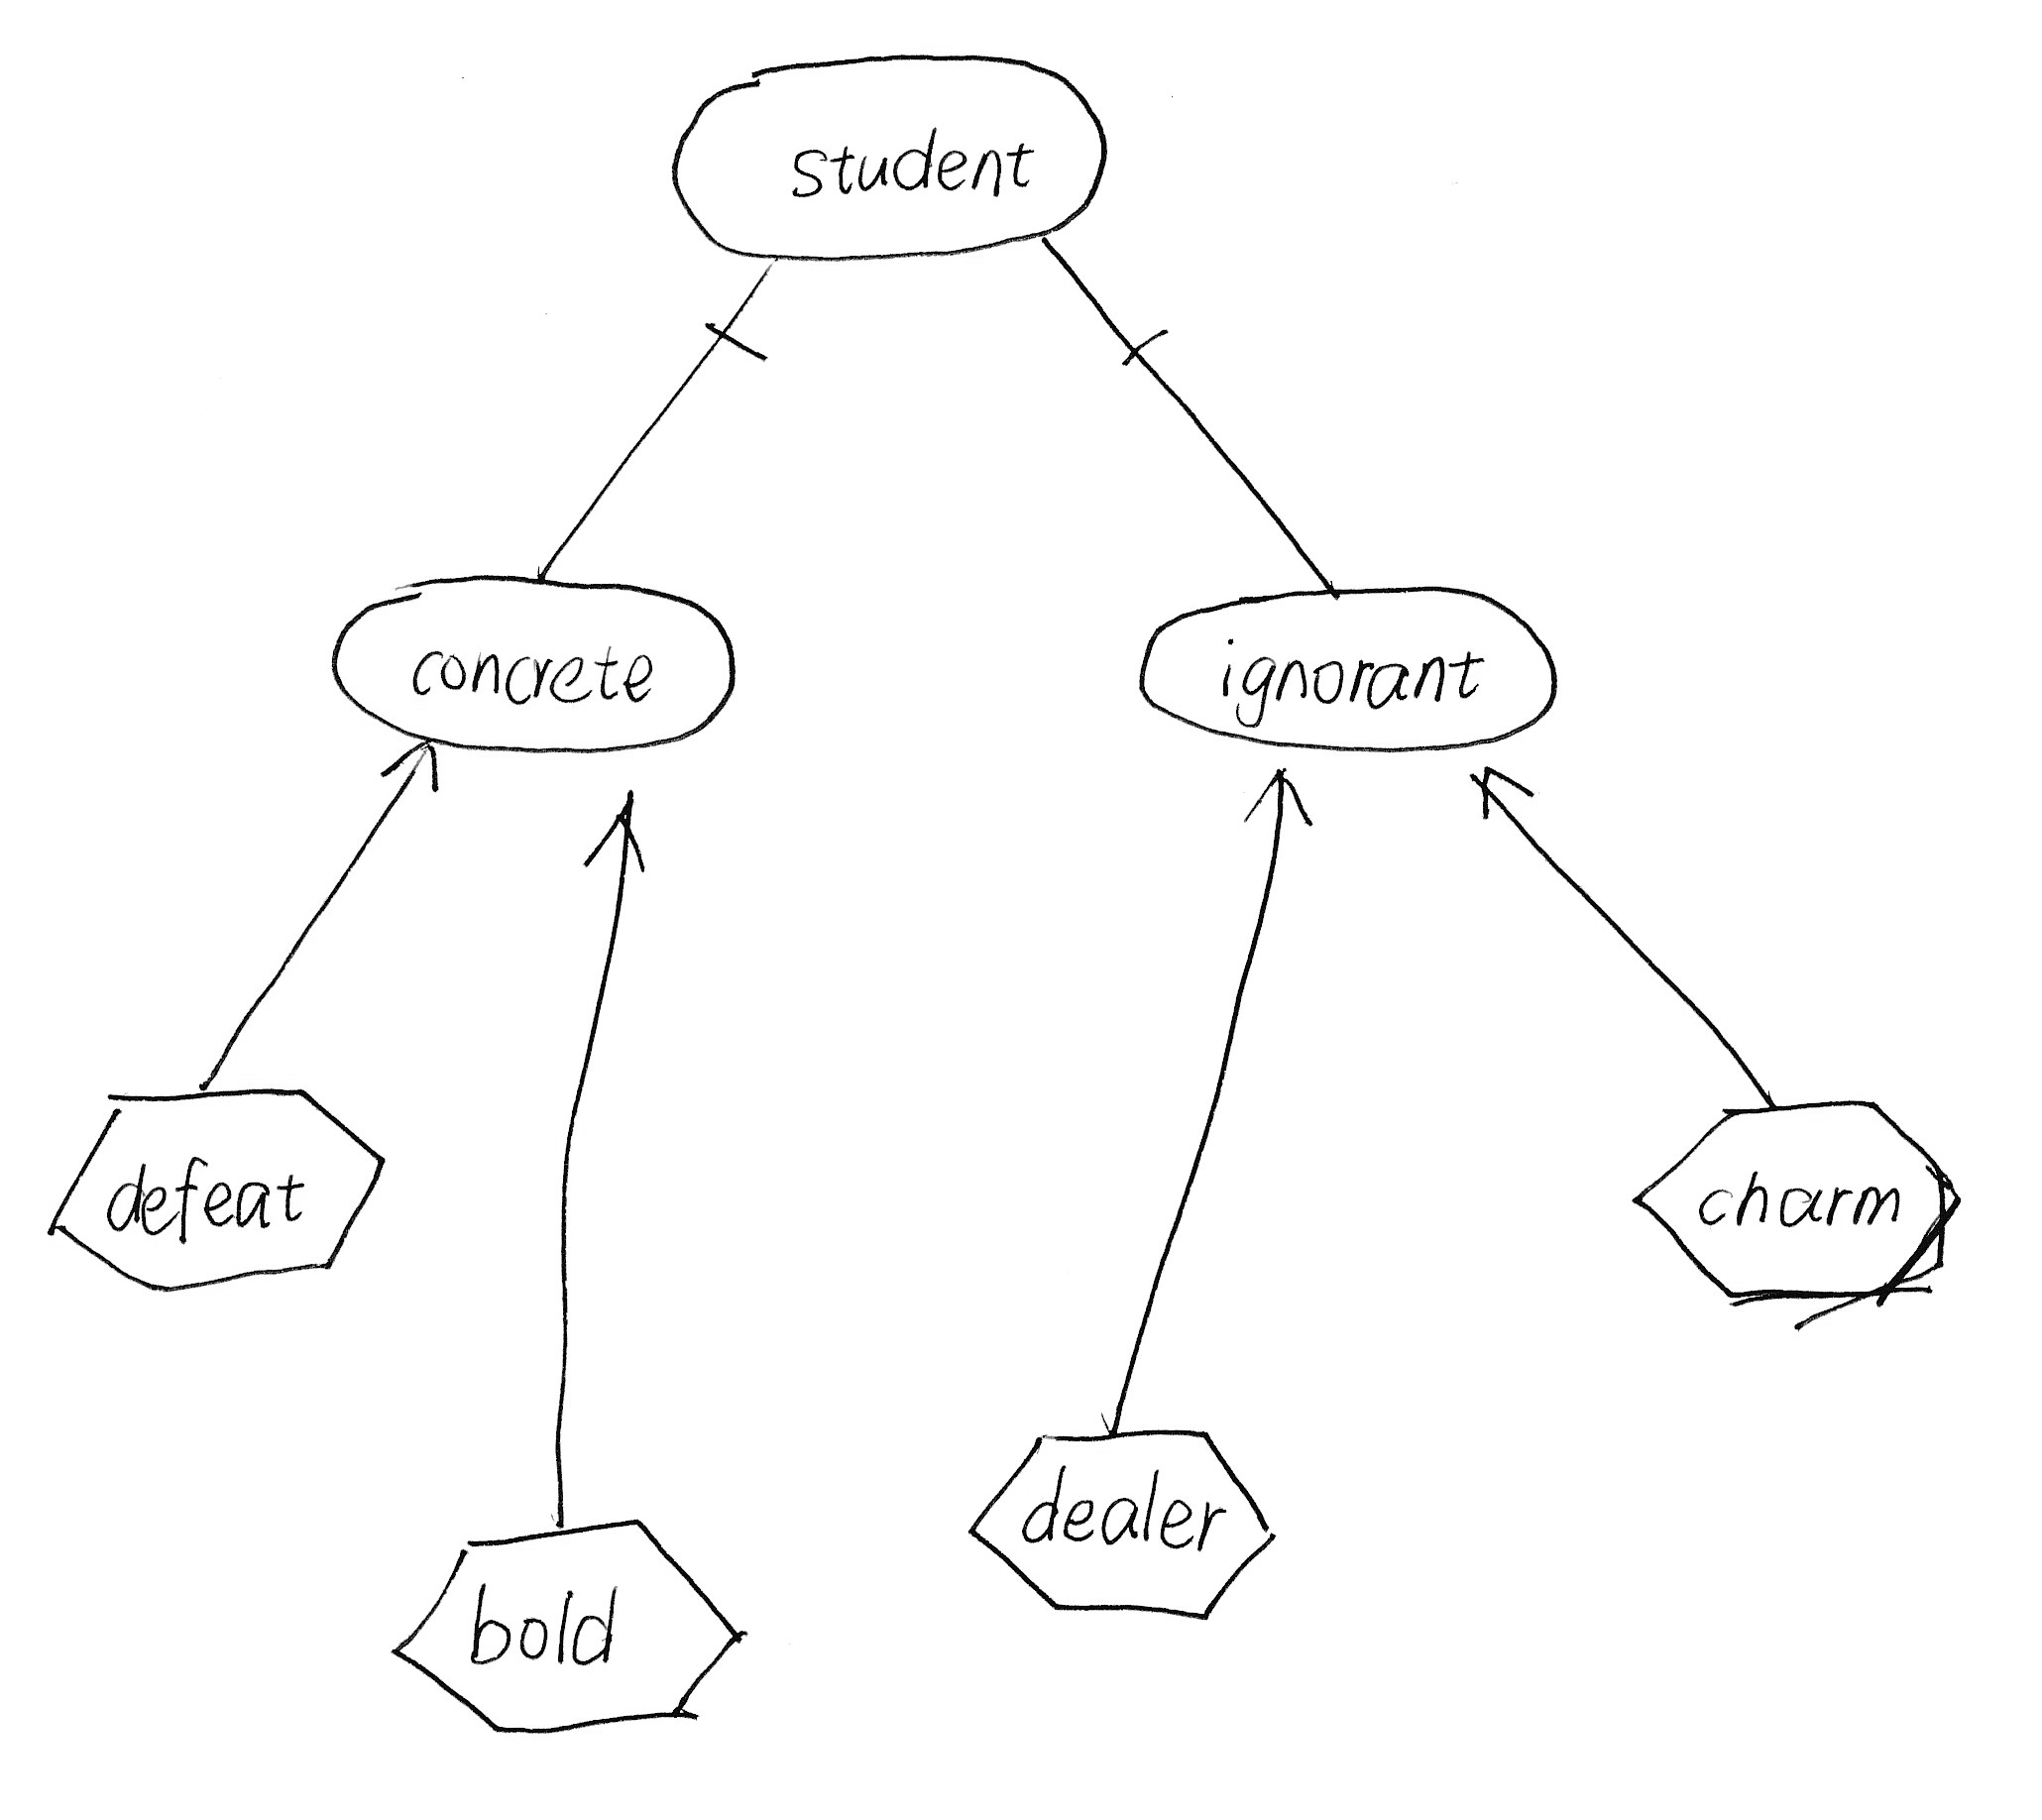and: (1030, 220, 1193, 385), (698, 242, 786, 381)
arrow: (583, 771, 659, 885), (1460, 748, 1548, 838), (1239, 757, 1327, 840), (369, 724, 450, 806)
goal: (652, 35, 1125, 274), (1119, 567, 1580, 771), (313, 553, 747, 769)
task: (373, 1504, 757, 1753), (1620, 1079, 1986, 1328), (26, 1073, 408, 1304), (956, 1412, 1293, 1630)
